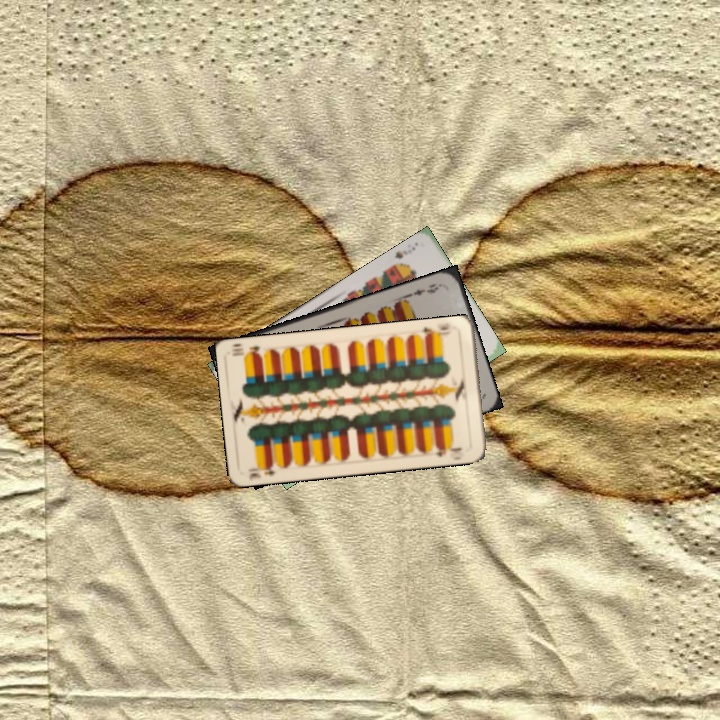E10: (418, 320, 458, 342), (245, 459, 278, 481)
E9: (406, 279, 445, 299)
S9: (390, 242, 418, 261)
